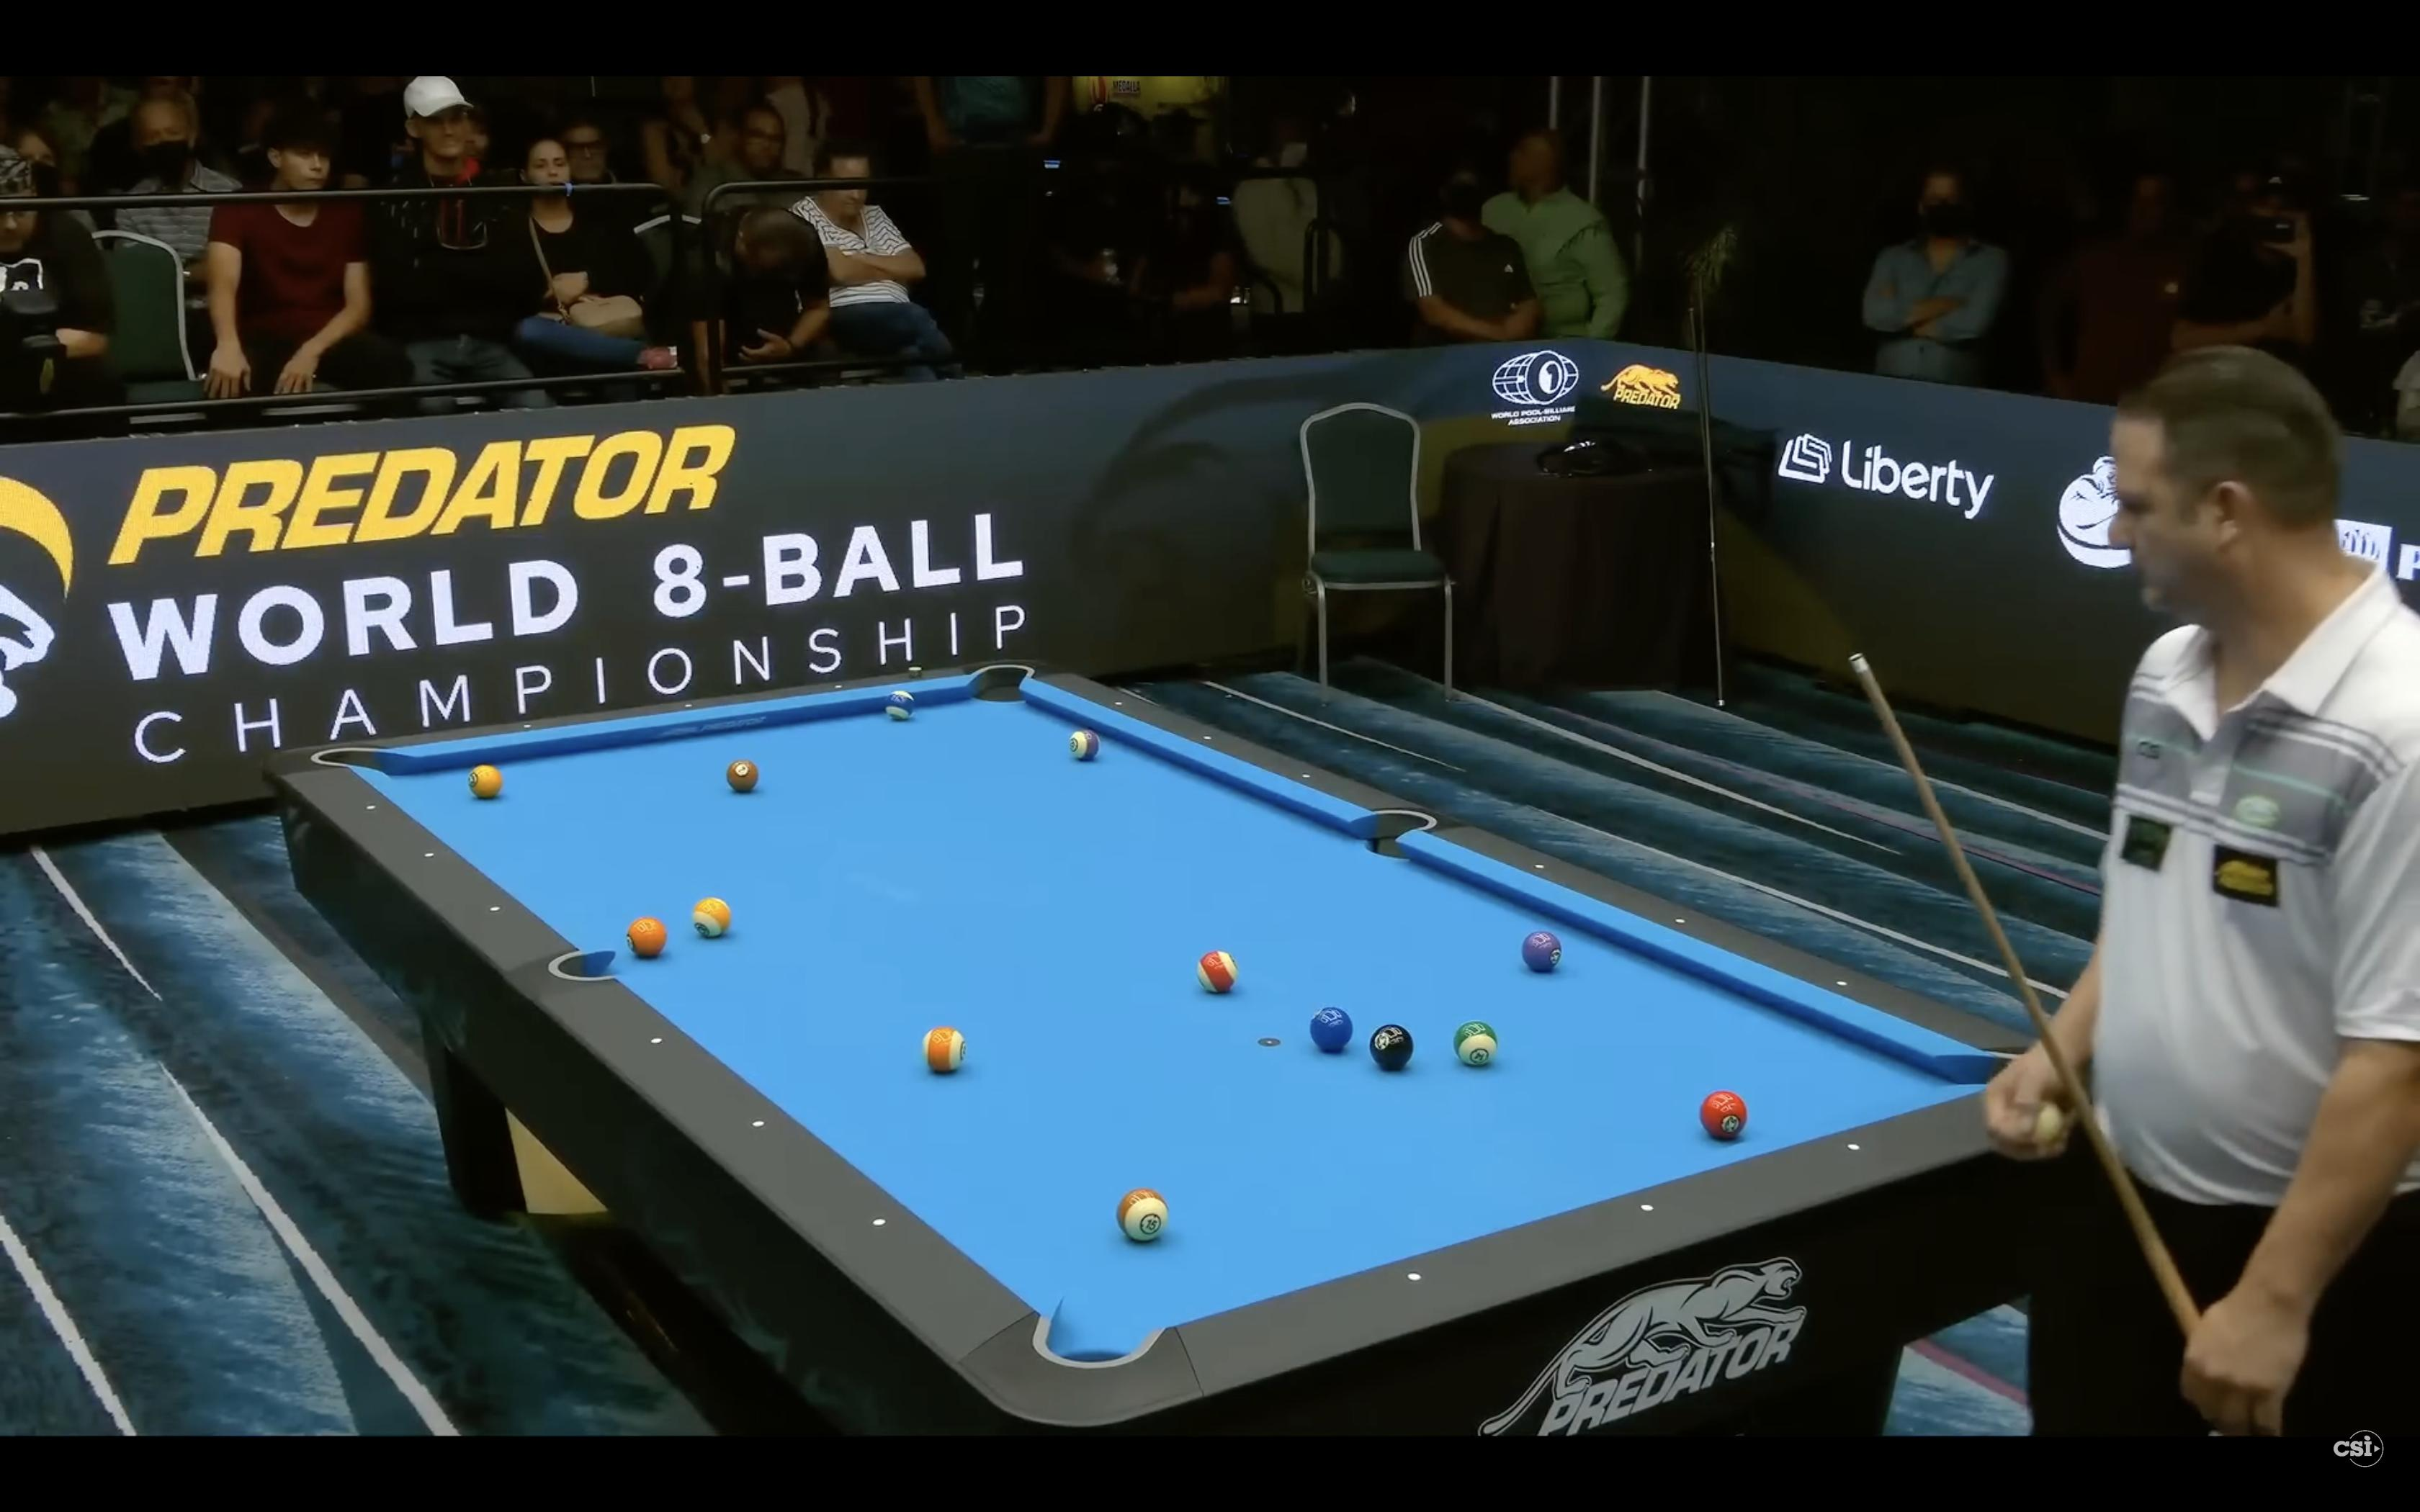Black: (1368, 1023, 1415, 1071)
Dot: (1406, 1272, 1423, 1282), (871, 1218, 887, 1226), (1639, 1204, 1655, 1212), (650, 1036, 664, 1045), (1847, 1143, 1861, 1151), (1835, 979, 1849, 988), (490, 904, 502, 913), (1674, 916, 1687, 925), (751, 1120, 765, 1127), (423, 852, 436, 859), (1533, 862, 1545, 869), (523, 723, 533, 730), (366, 805, 376, 812), (1301, 772, 1312, 779), (1113, 700, 1124, 707), (835, 683, 843, 690), (685, 702, 693, 709), (1204, 735, 1213, 740)
Solid: (1697, 1089, 1751, 1143), (1307, 1005, 1355, 1052), (1523, 928, 1565, 974), (627, 916, 667, 958), (469, 761, 502, 800), (727, 758, 760, 793)
Striped: (1115, 1185, 1171, 1242), (1453, 1019, 1502, 1070), (1193, 949, 1240, 996), (925, 1026, 969, 1073), (692, 895, 732, 941), (1068, 728, 1101, 761), (885, 690, 915, 719)
